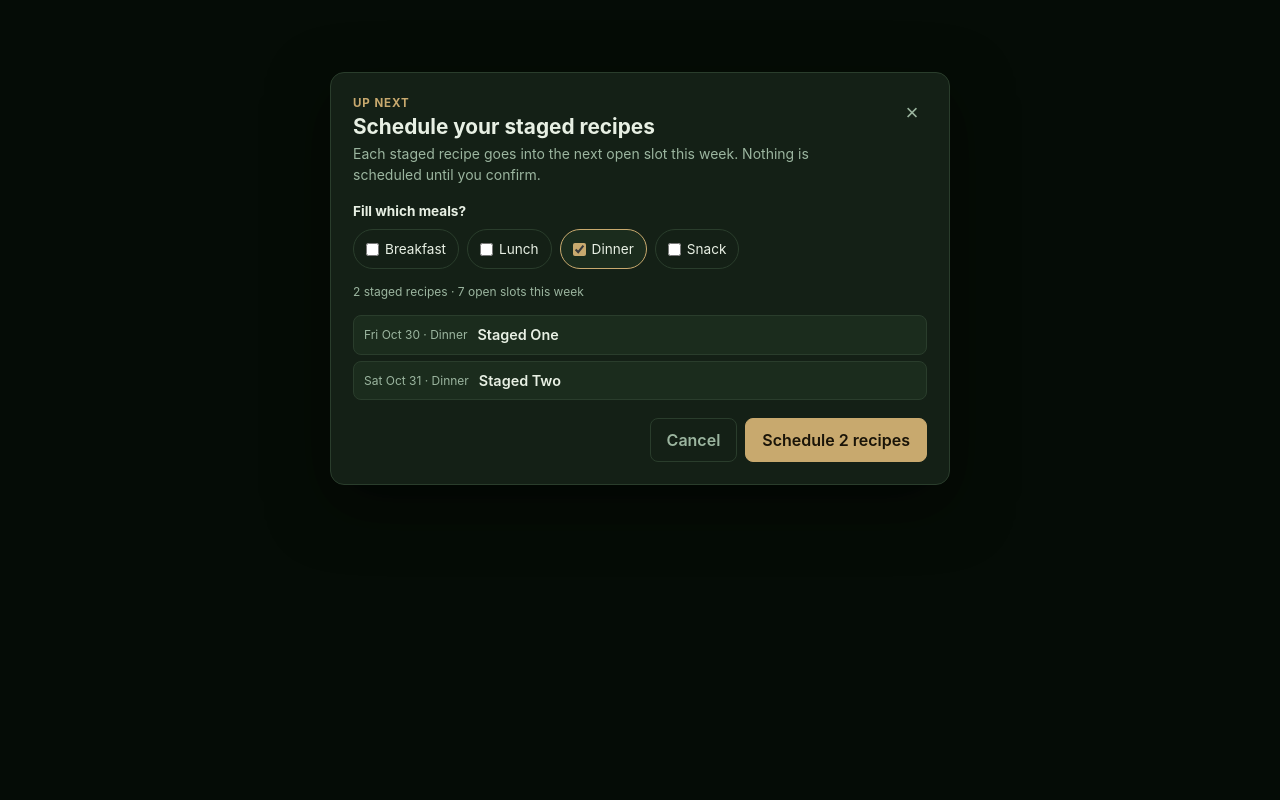
Scenario: BulkScheduleMeals › deselecting every meal type schedules nothing
What coordinates should you click on to do the following:
click the checkbox labelled "Dinner"
I would click on:
 (579, 249)
Its box is x1=573 y1=243 x2=586 y2=256.
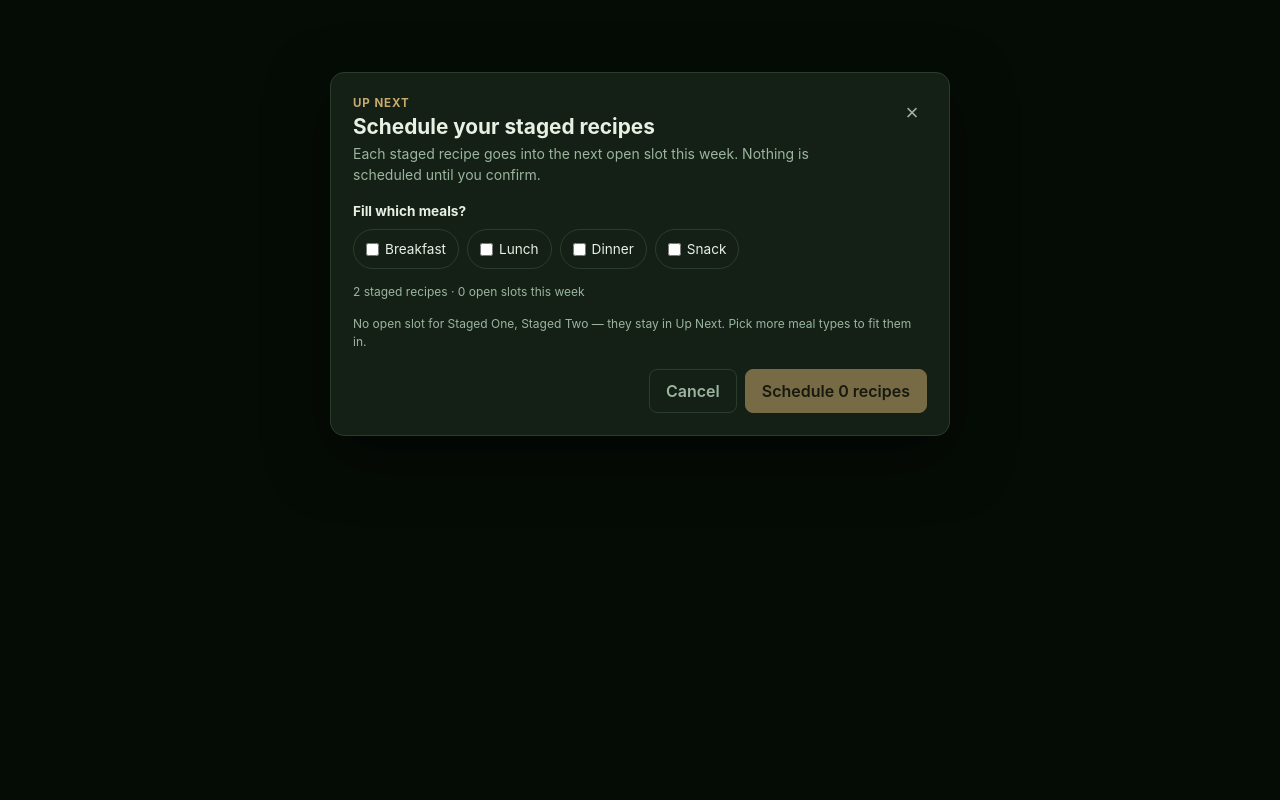
expect the button "Schedule 0 recipes" is disabled: met, box x1=745 y1=369 x2=927 y2=413
expect the text "No open slot for Staged One, Staged Two" is shown: met, box x1=353 y1=315 x2=927 y2=351
